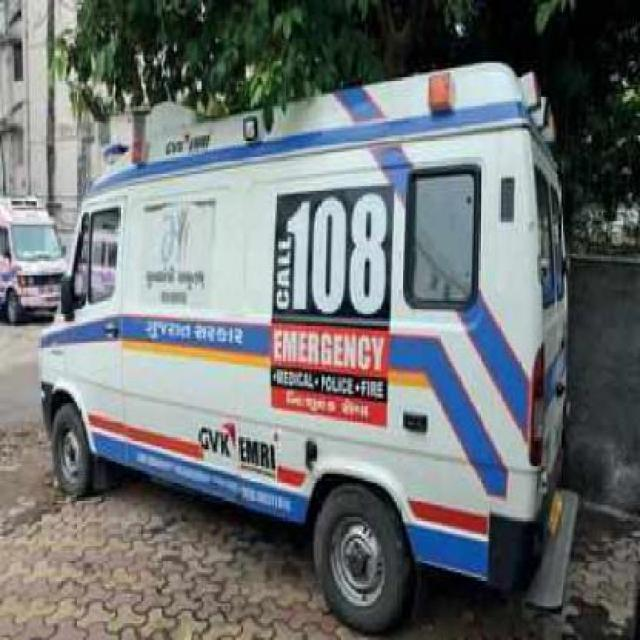Ambulance: (32, 59, 577, 636), (0, 190, 71, 328)
